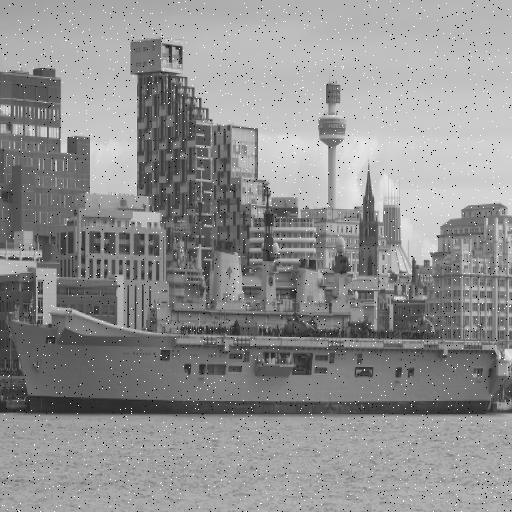Portanaves: (7, 132, 508, 414)
